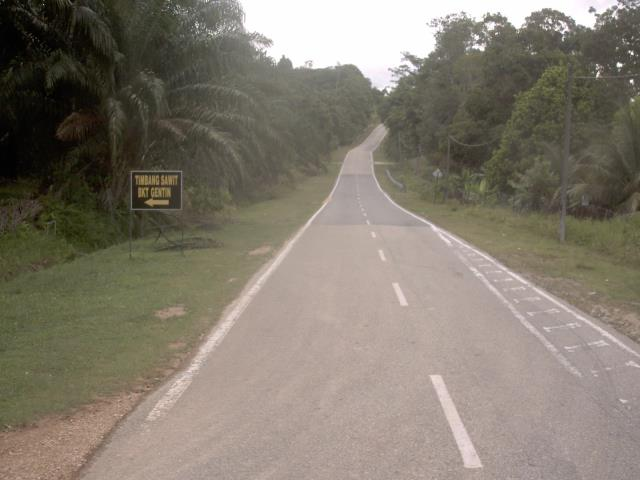ads_sign: (118, 161, 190, 218)
